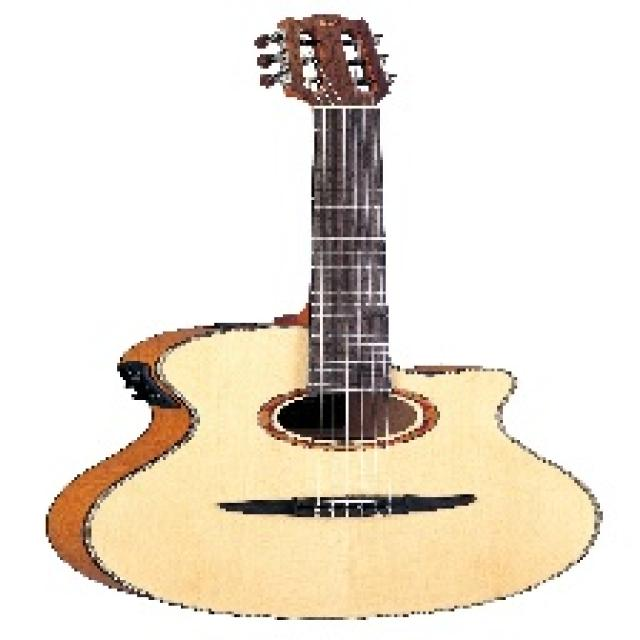guitar: (46, 16, 605, 617)
